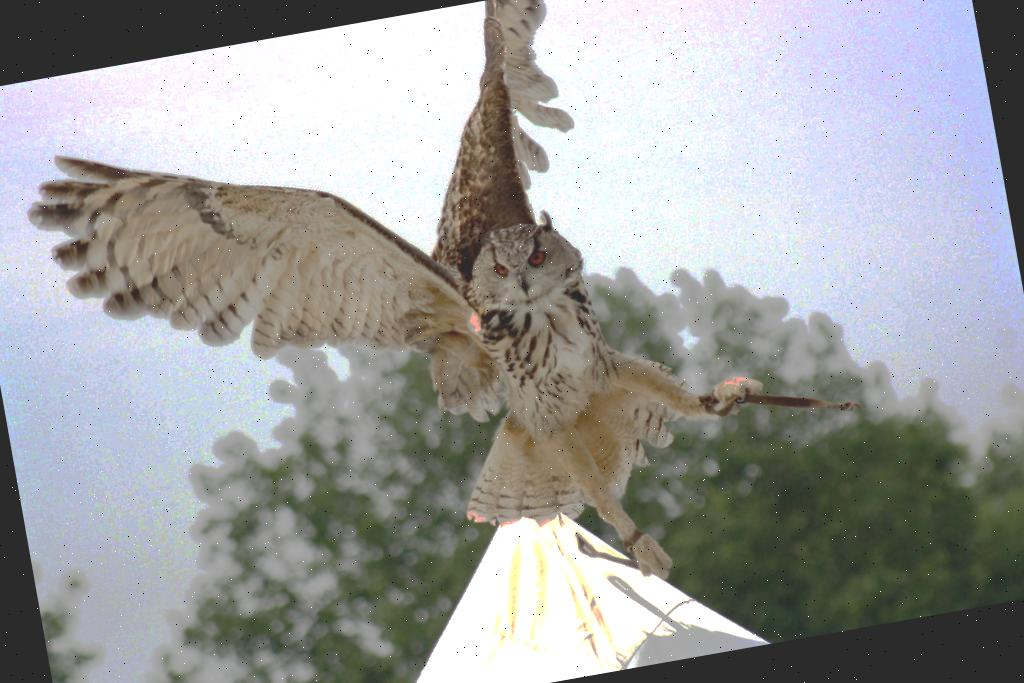Owl: (2, 0, 796, 675)
